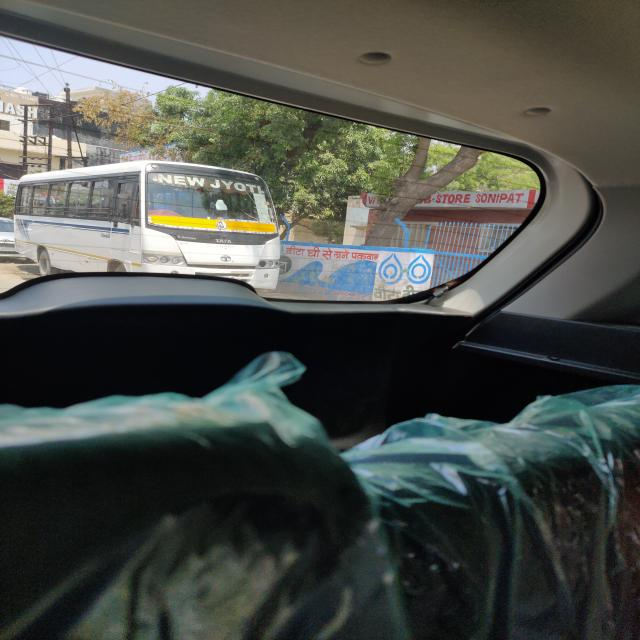Bus: (22, 150, 290, 276)
